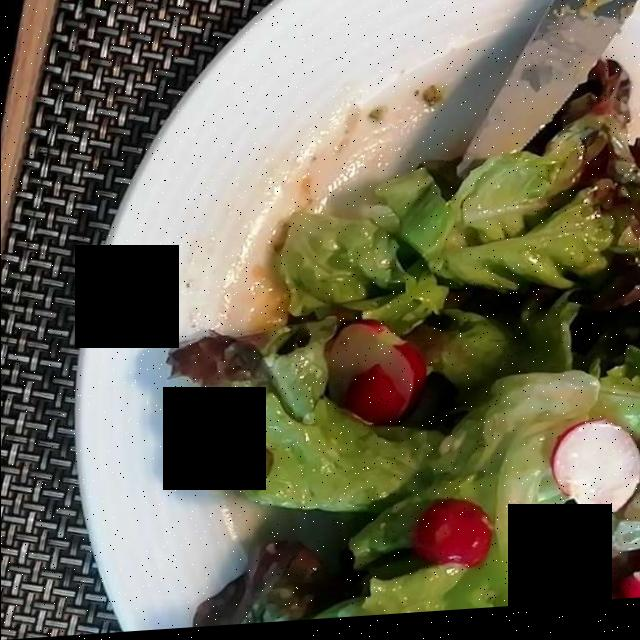salad-leaf-salad-green: (173, 60, 631, 612)
